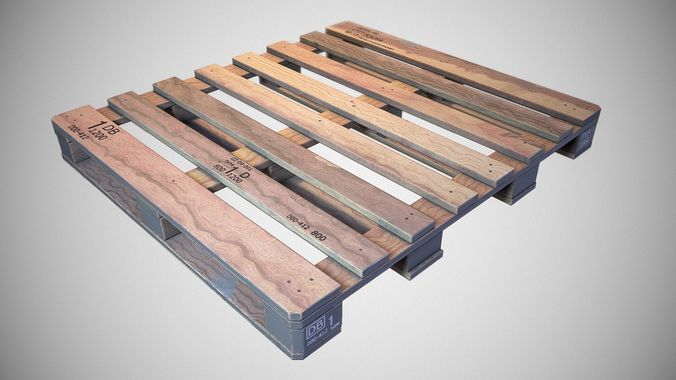pallet: (25, 12, 610, 369)
